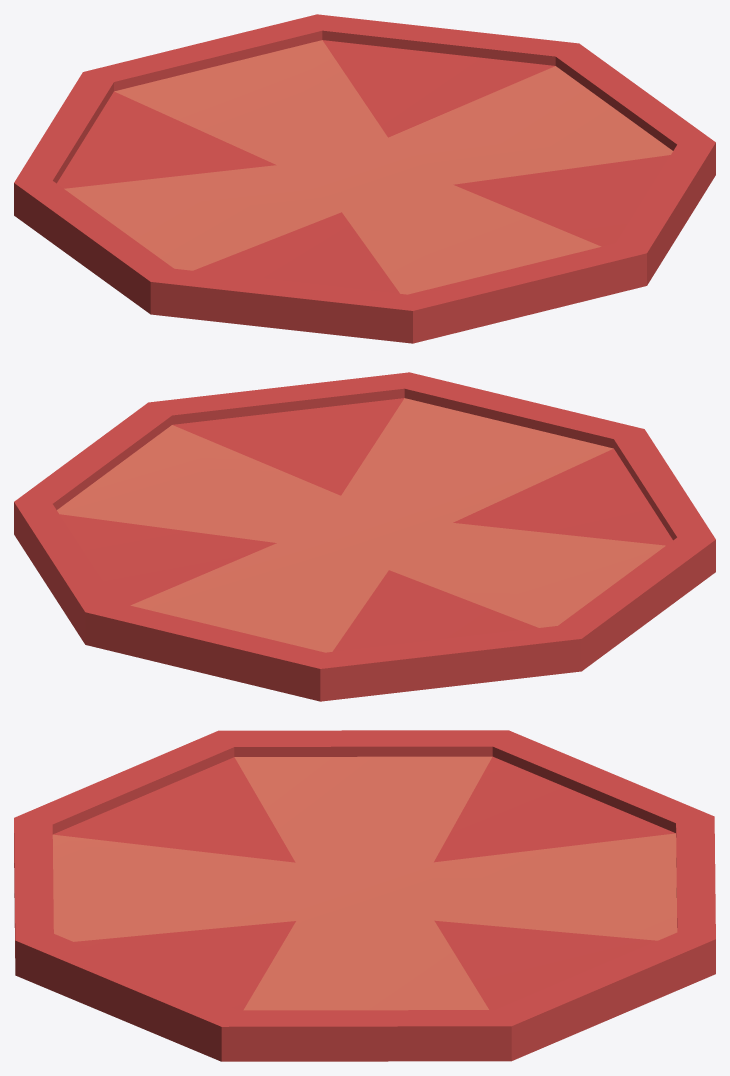
Rendered from Tomato.FBX.
The picture shows the model from 3 angles, top to bottom: view 1: azimuth 30°, elevation 25°; view 2: azimuth 150°, elevation 25°; view 3: azimuth 270°, elevation 25°; orthographic projection. The views are drawn at different scales.
Visible parts, largest first — view 1: Tomato; view 2: Tomato; view 3: Tomato.
Part boxes in pixels (x1,y1,x2,y2): Tomato: (14, 14, 715, 343); Tomato: (14, 372, 715, 701); Tomato: (14, 730, 715, 1061).
Bounding box in the file's own units: 9.09 × 9.09 × 0.5.
